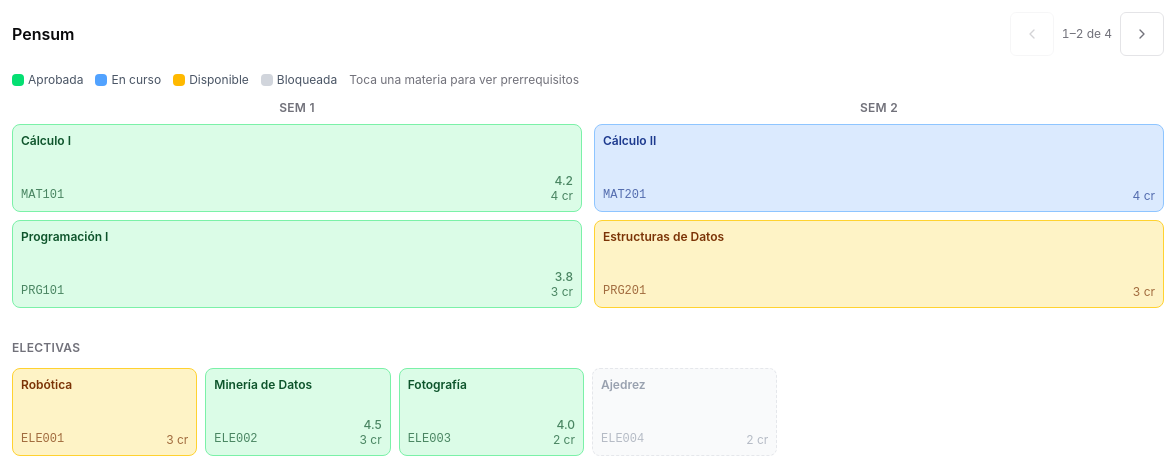
Test: PensumGrid › pagina los semestres de dos en dos a ancho móvil
Expected: the text "1–2 de 4" is shown, [1062,26,1112,42]
Expected: the button named "Semestres anteriores" is disabled, [1010,12,1054,56]
Click the button named "Semestres siguientes" at [1142, 34], box [1120,12,1164,56]
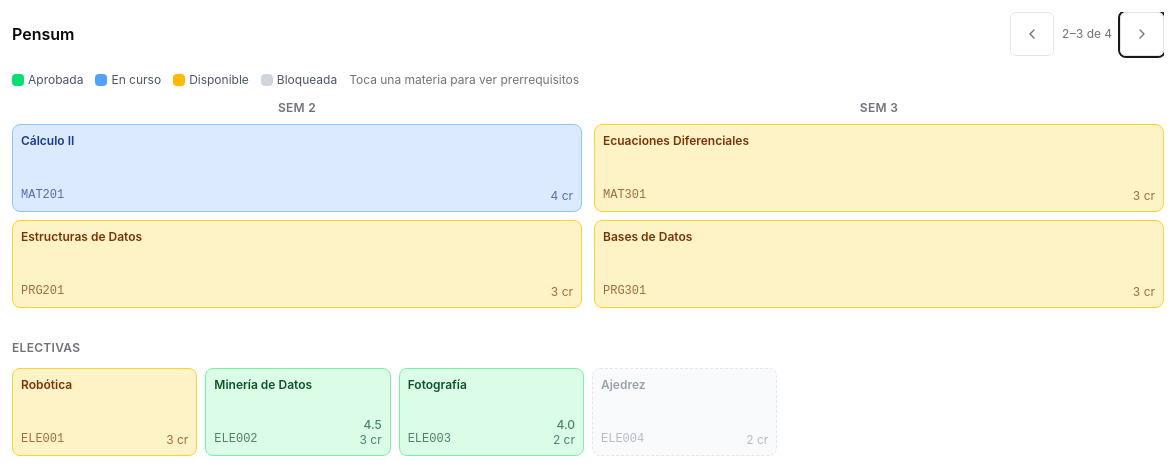
Expected: the text "2–3 de 4" is shown, [1062,26,1112,42]
Click the button named "Semestres siguientes" at [1142, 34], box [1120,12,1164,56]
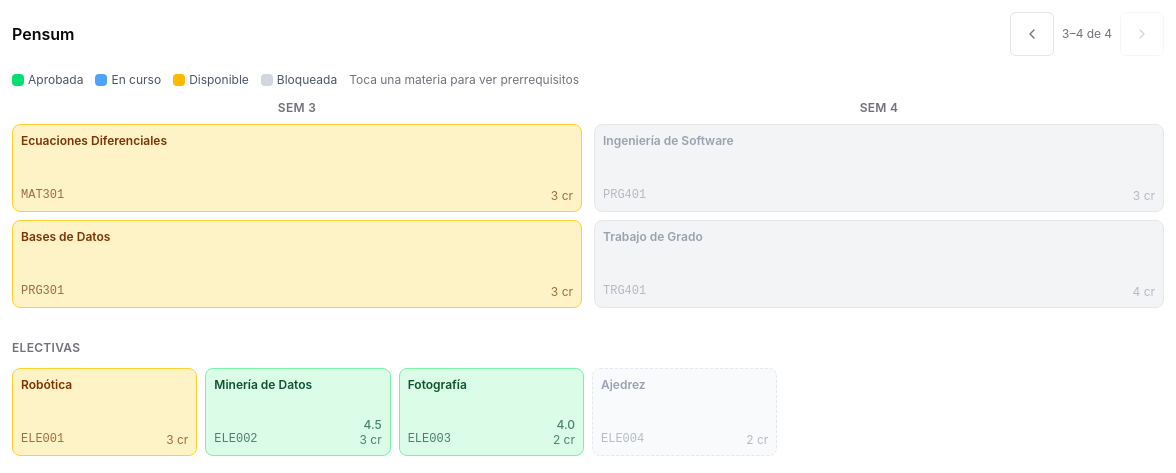
Expected: the text "Sem 3" is shown, [278,100,316,115]
Expected: the text "3–4 de 4" is shown, [1062,26,1112,42]
Expected: the text "Sem 4" is shown, [860,100,898,115]
Click the button named "Semestres anteriores" at [1032, 34], box [1010,12,1054,56]
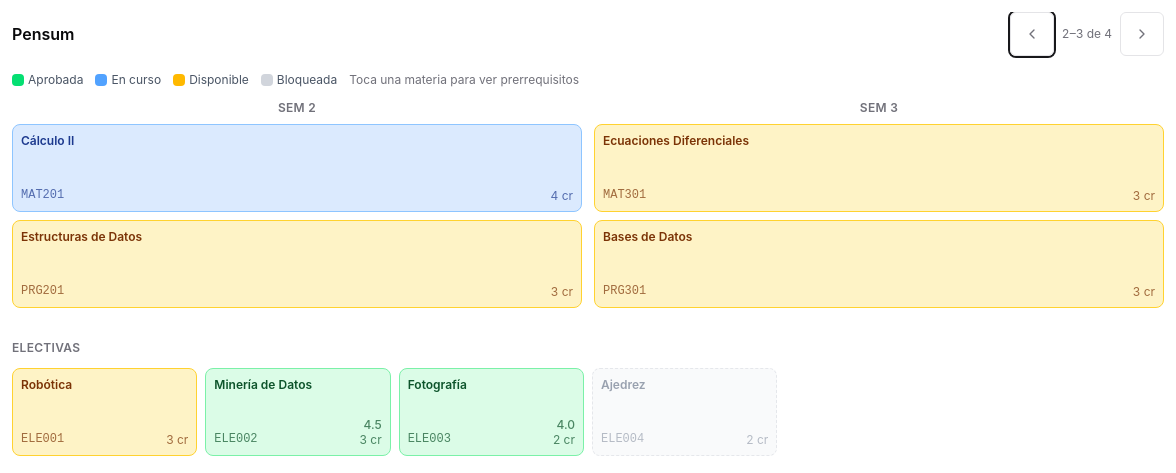
Expected: the text "2–3 de 4" is shown, [1062,26,1112,42]
